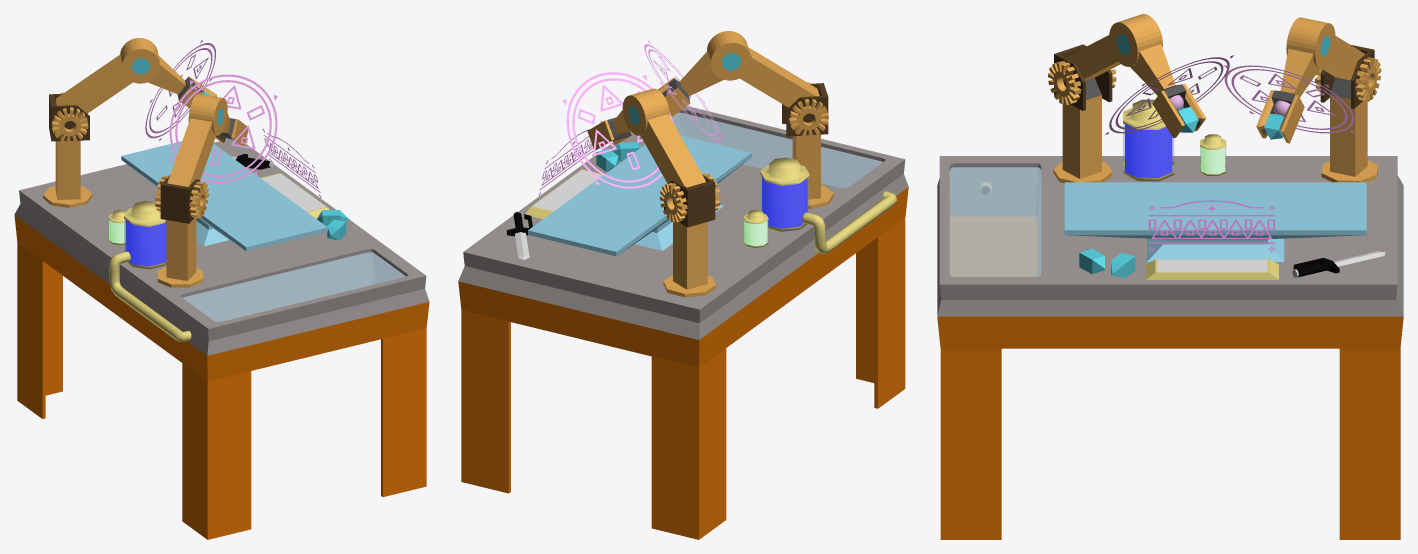
File: 洗い場.fbx
The picture shows the model from 3 angles, left to right: view 1: azimuth 30°, elevation 25°; view 2: azimuth 150°, elevation 25°; view 3: azimuth 270°, elevation 25°; orthographic projection. The views are drawn at different scales.
Parts seen in each view (by area): view 1: 左アーム.001, 左アーム, 右アーム, 洗浄薬, 平面; view 2: 左アーム.001, 右アーム, 左アーム, 洗浄薬, 立方体, 平面; view 3: 左アーム.001, 左アーム, 右アーム, 洗浄薬, 平面, 立方体.
Part boxes in pixels (x1,y1,x2,y2): 左アーム.001: (14,139,429,539); 左アーム: (155,74,277,287); 右アーム: (43,38,216,207); 洗浄薬: (108,201,191,341); 平面: (262,129,321,197); 左アーム.001: (458,106,908,539); 右アーム: (562,72,720,297); 左アーム: (644,31,833,209); 洗浄薬: (743,157,897,253); 立方体: (506,211,532,259); 平面: (538,121,601,195); 左アーム.001: (937,156,1403,539); 左アーム: (1048,14,1234,183); 右アーム: (1224,17,1381,182); 洗浄薬: (979,99,1226,195); 平面: (1148,200,1274,252); 立方体: (1292,251,1385,277).
Bounding box in the file's own units: 426 × 635 × 612.
